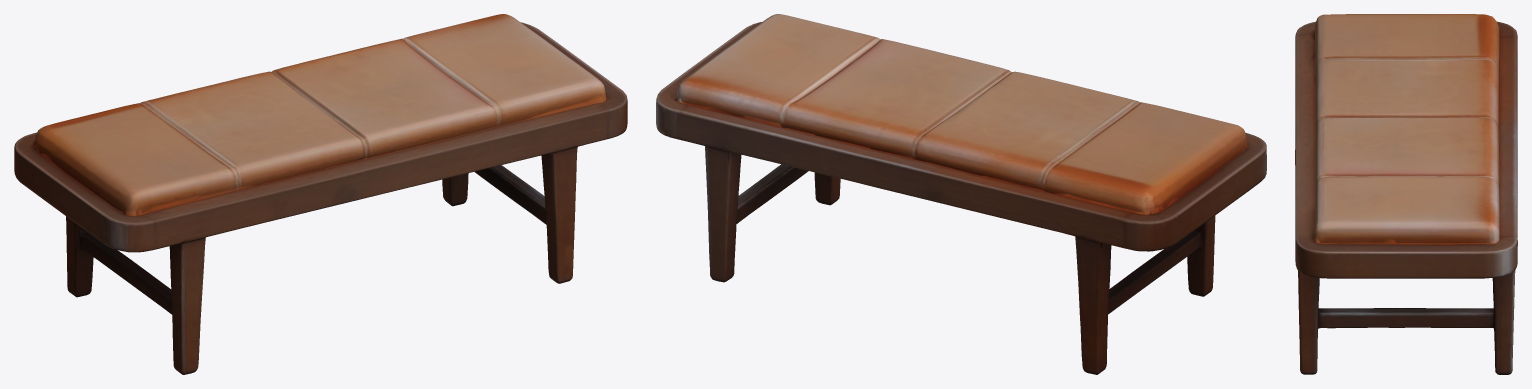
3 views of the same model, side by side, from view 1: azimuth 30°, elevation 25°; view 2: azimuth 150°, elevation 25°; view 3: azimuth 270°, elevation 25° (orthographic). The views are drawn at different scales.
Visible parts, largest first — view 1: geometry_0; view 2: geometry_0; view 3: geometry_0.
Part boxes in pixels (left/top/right/bottom): geometry_0: left=14, top=14, right=627, bottom=374; geometry_0: left=656, top=14, right=1266, bottom=374; geometry_0: left=1295, top=14, right=1517, bottom=374.
Bounding box in the file's own units: 0.9986 × 0.3425 × 0.4039.
Materials: 1 (1 with a texture image).
